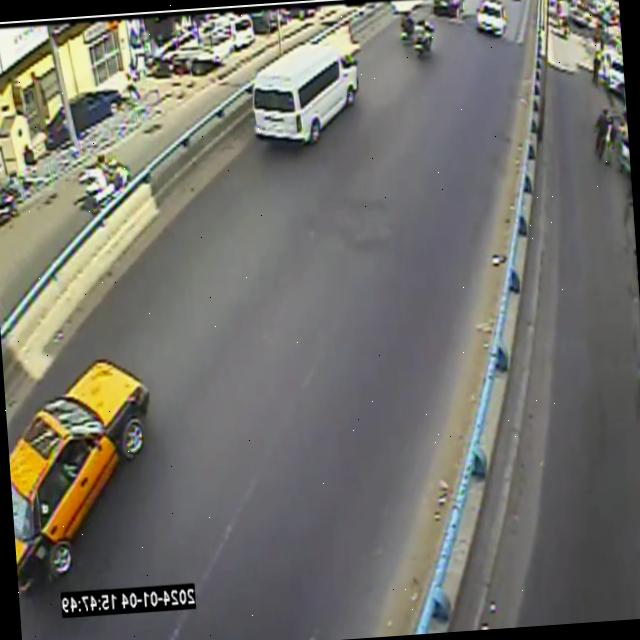car: (9, 347, 158, 593), (9, 361, 148, 589), (251, 27, 359, 145), (413, 18, 434, 58)
